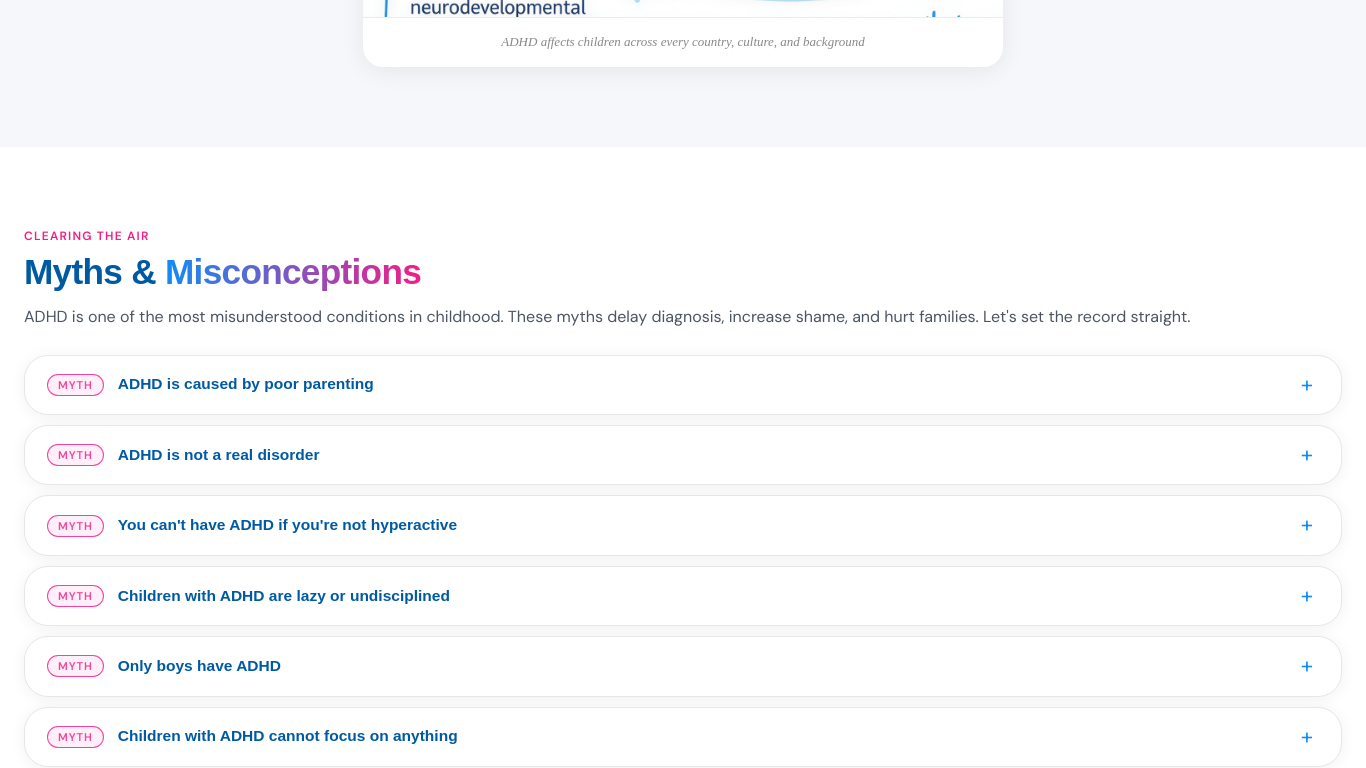
Scenario: Causes page › myth accordion opens and shows fact on click
(page scrolled)
What coordinates should you click on to do the following:
click the 1st button with class "c-myth__trigger"
I would click on:
 (75, 385)
Its box is [25, 356, 1341, 414].
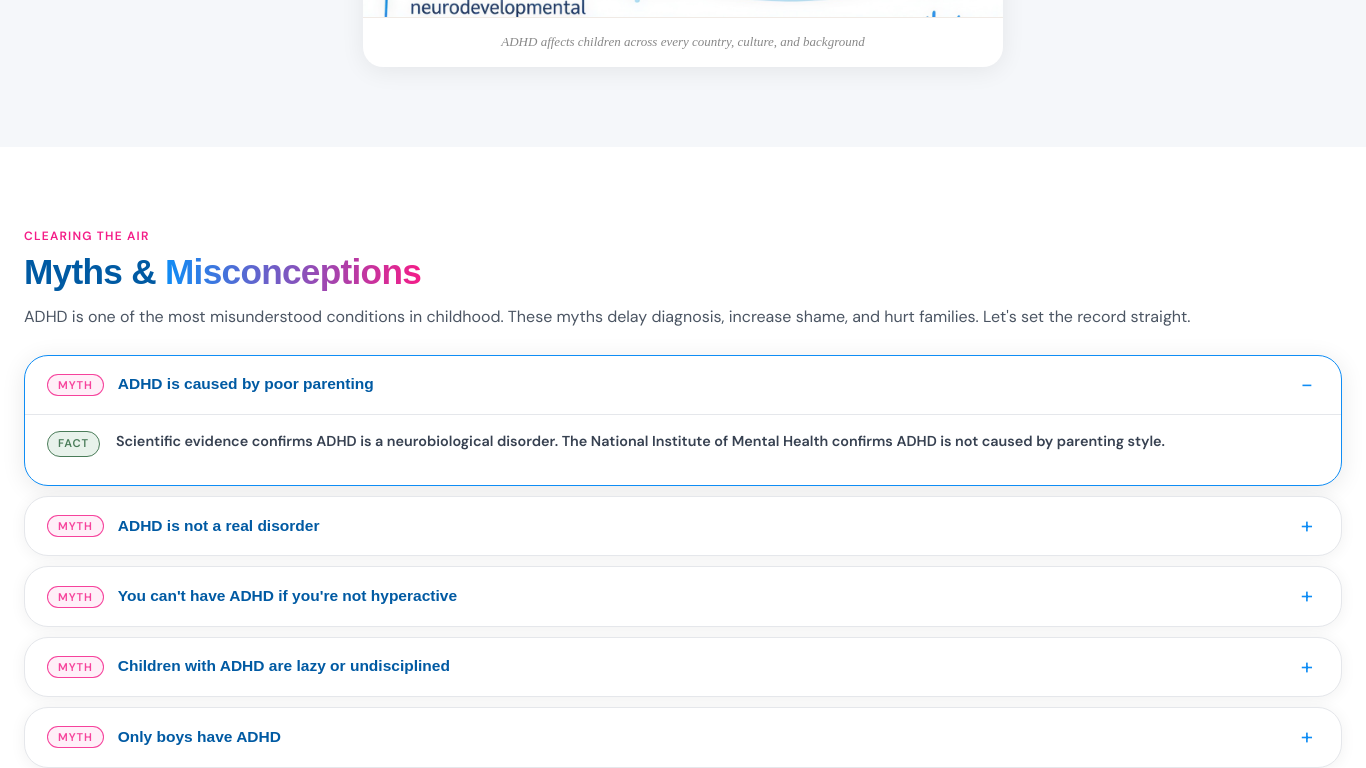
Check: the text "Fact" is shown, box [47, 431, 100, 457]
Check: the text "neurobiological disorder" is shown, box [116, 432, 1165, 450]
